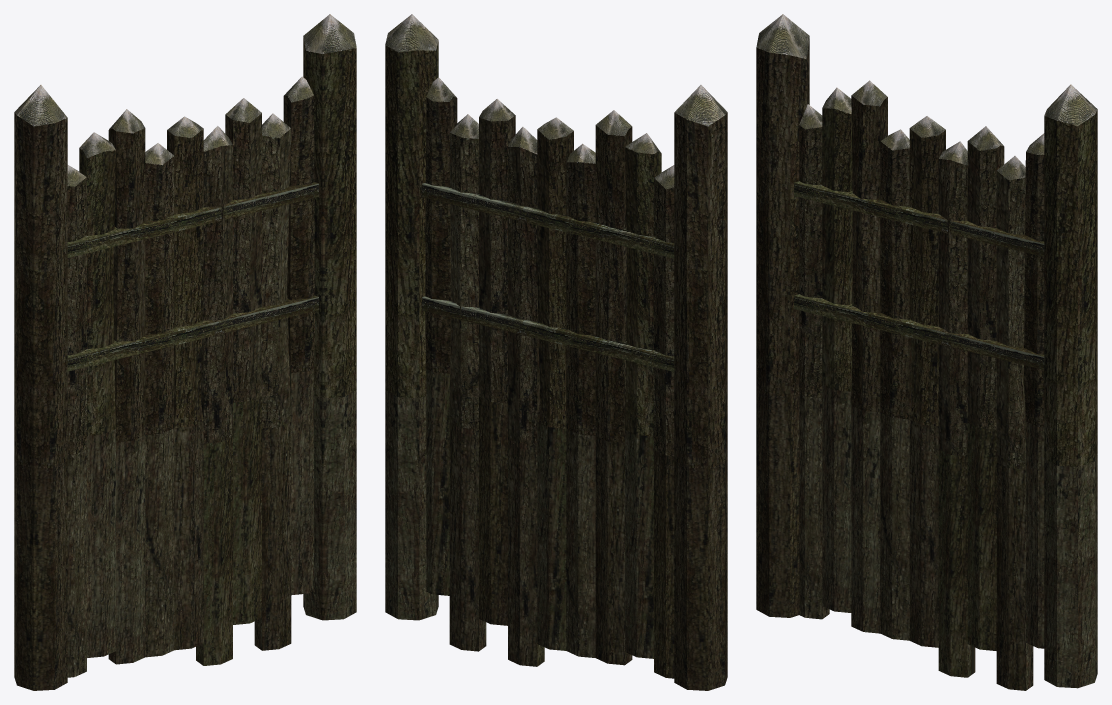
The model's file is palisada3.glb.
3 views of the same model, side by side, from view 1: azimuth 30°, elevation 25°; view 2: azimuth 150°, elevation 25°; view 3: azimuth 330°, elevation 25° (orthographic).
Visible parts, largest first — view 1: zengin; view 2: zengin; view 3: zengin.
Boxes of the visible parts, x1,y1,x2,y2 form: zengin: (14,14,356,690); zengin: (385,14,727,690); zengin: (756,14,1097,690).
Bounding box in the file's own units: 4.93 × 8.63 × 0.7029.
3 materials, 3 textured.
